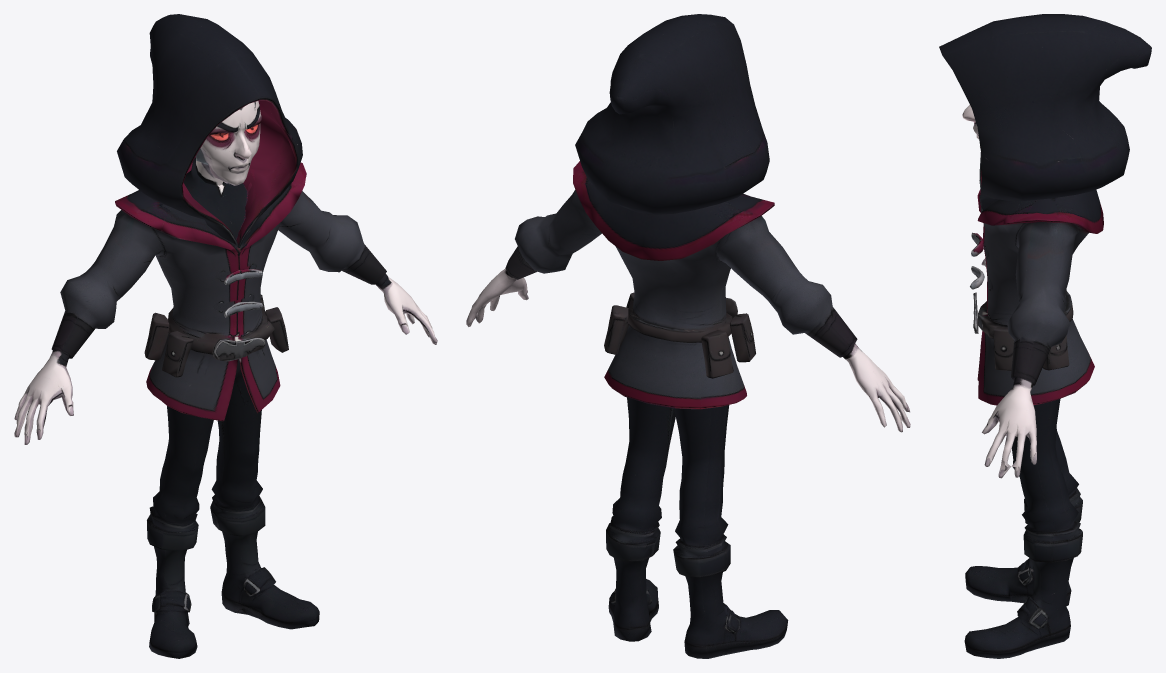
File: Meshy_AI__0920153324_texture.obj
3 renders of one model, left to right at view 1: azimuth 30°, elevation 25°; view 2: azimuth 150°, elevation 25°; view 3: azimuth 270°, elevation 25°, orthographic. The views are drawn at different scales.
Visible parts, largest first — view 1: Meshy_AI__0920153324_texture; view 2: Meshy_AI__0920153324_texture; view 3: Meshy_AI__0920153324_texture.
Boxes of the visible parts, left/top/right/bottom form: Meshy_AI__0920153324_texture: left=14, top=14, right=437, bottom=658; Meshy_AI__0920153324_texture: left=466, top=14, right=910, bottom=658; Meshy_AI__0920153324_texture: left=939, top=14, right=1151, bottom=658.
Bounding box in the file's own units: 0.7441 × 1 × 0.3213.
1 material, 1 textured.
